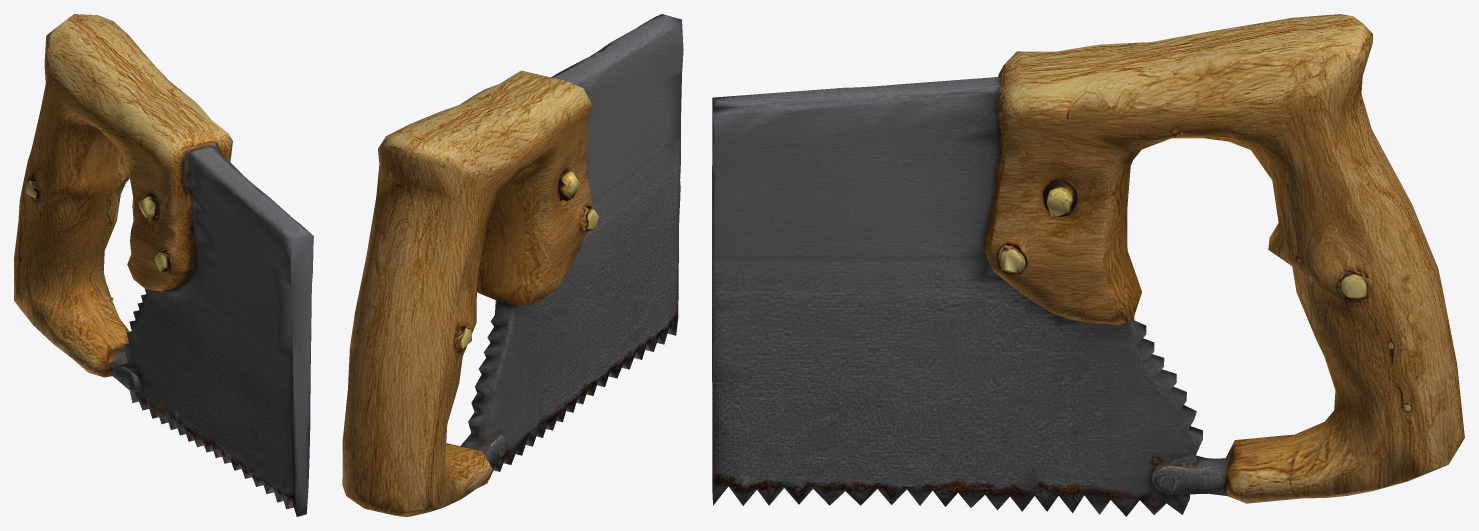
The model's file is hand_saw.glb.
3 renders of one model, left to right at view 1: azimuth 30°, elevation 25°; view 2: azimuth 150°, elevation 25°; view 3: azimuth 270°, elevation 25°, orthographic. The views are drawn at different scales.
Parts seen in each view (by area): view 1: hand_saw; view 2: hand_saw; view 3: hand_saw.
Boxes of the visible parts, x1,y1,x2,y2 form: hand_saw: [14, 14, 313, 516]; hand_saw: [342, 14, 683, 516]; hand_saw: [712, 14, 1464, 516].
Bounding box in the file's own units: 0.1241 × 0.4312 × 0.6.
Materials: 1 (1 with a texture image).
